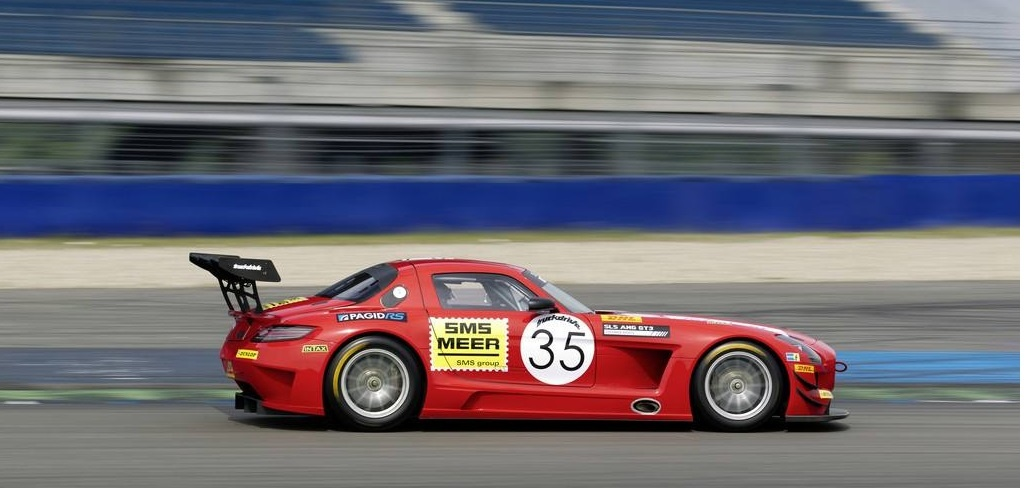racing car: (191, 228, 859, 438)
